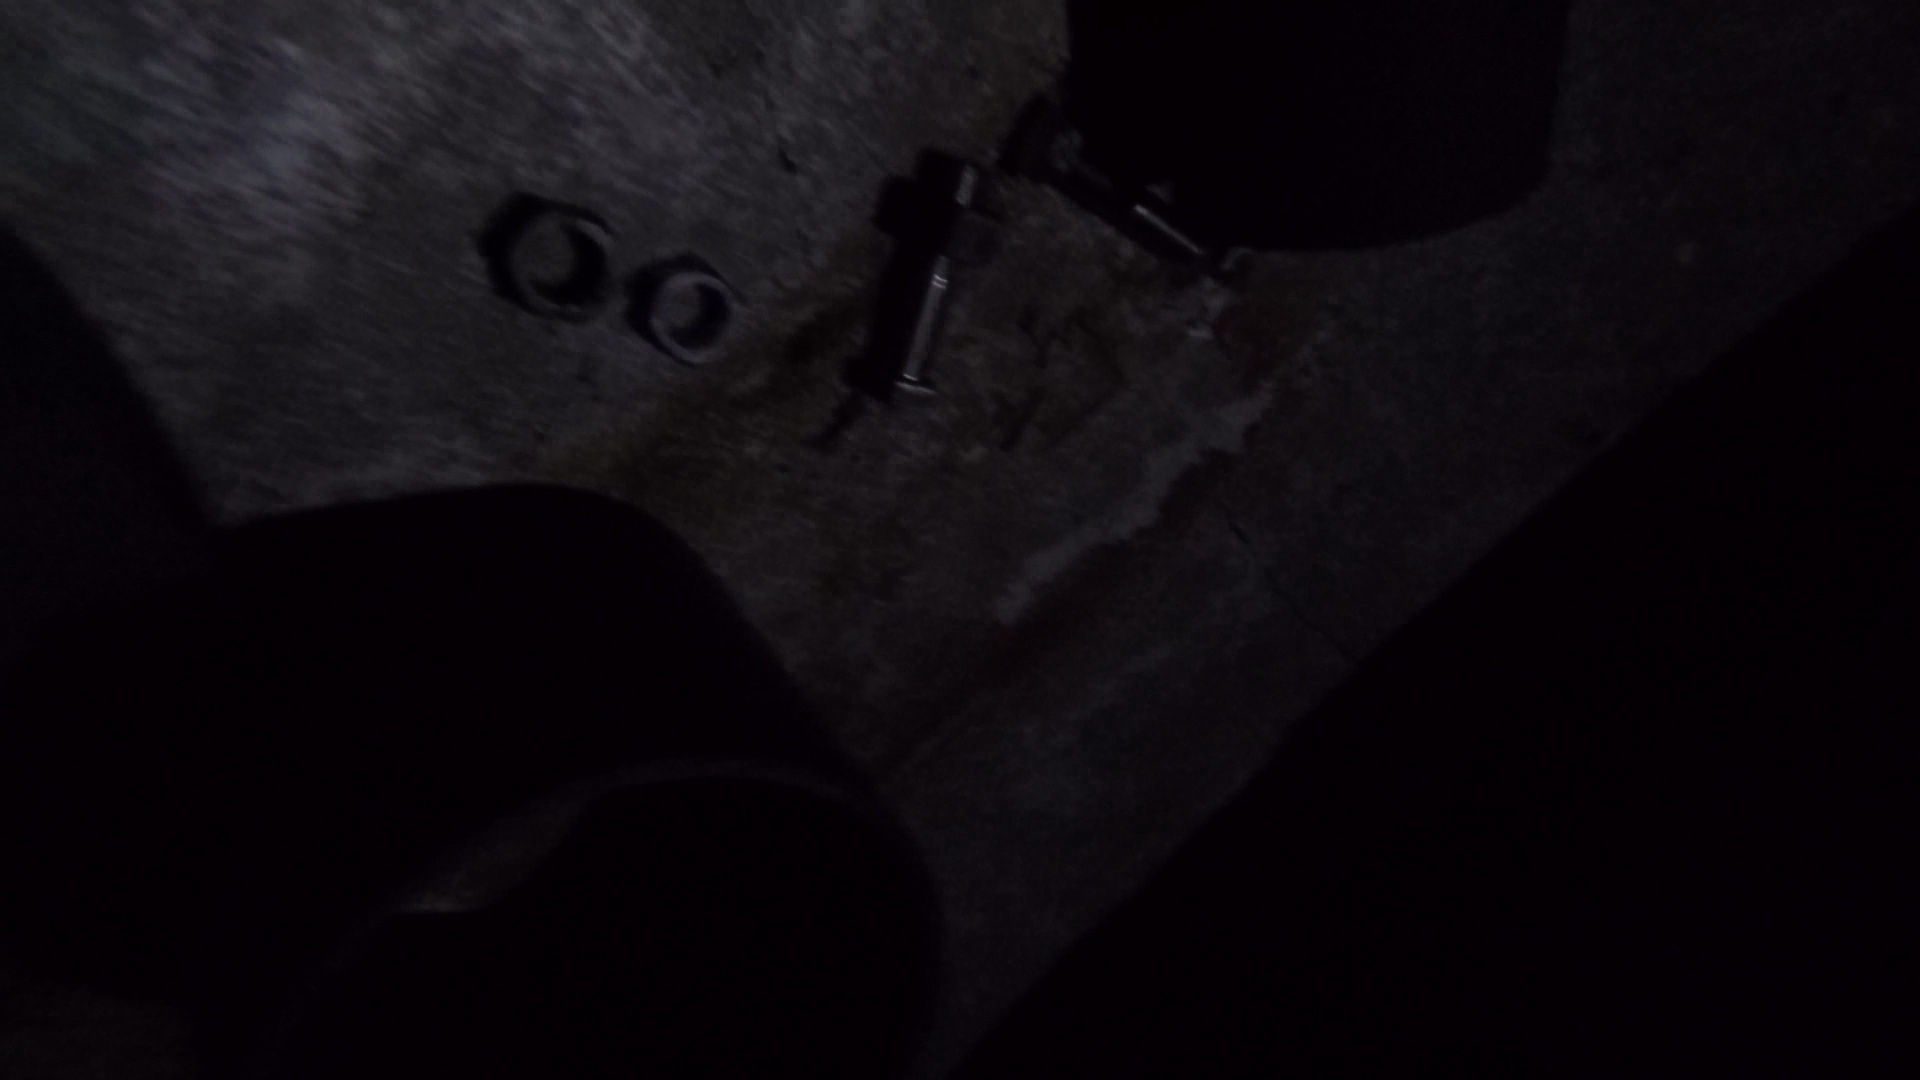bolt: (1025, 120, 1255, 305), (843, 142, 981, 406)
nut: (487, 195, 618, 331), (872, 175, 1009, 272), (640, 249, 742, 371)
pipe: (177, 483, 949, 1075)
